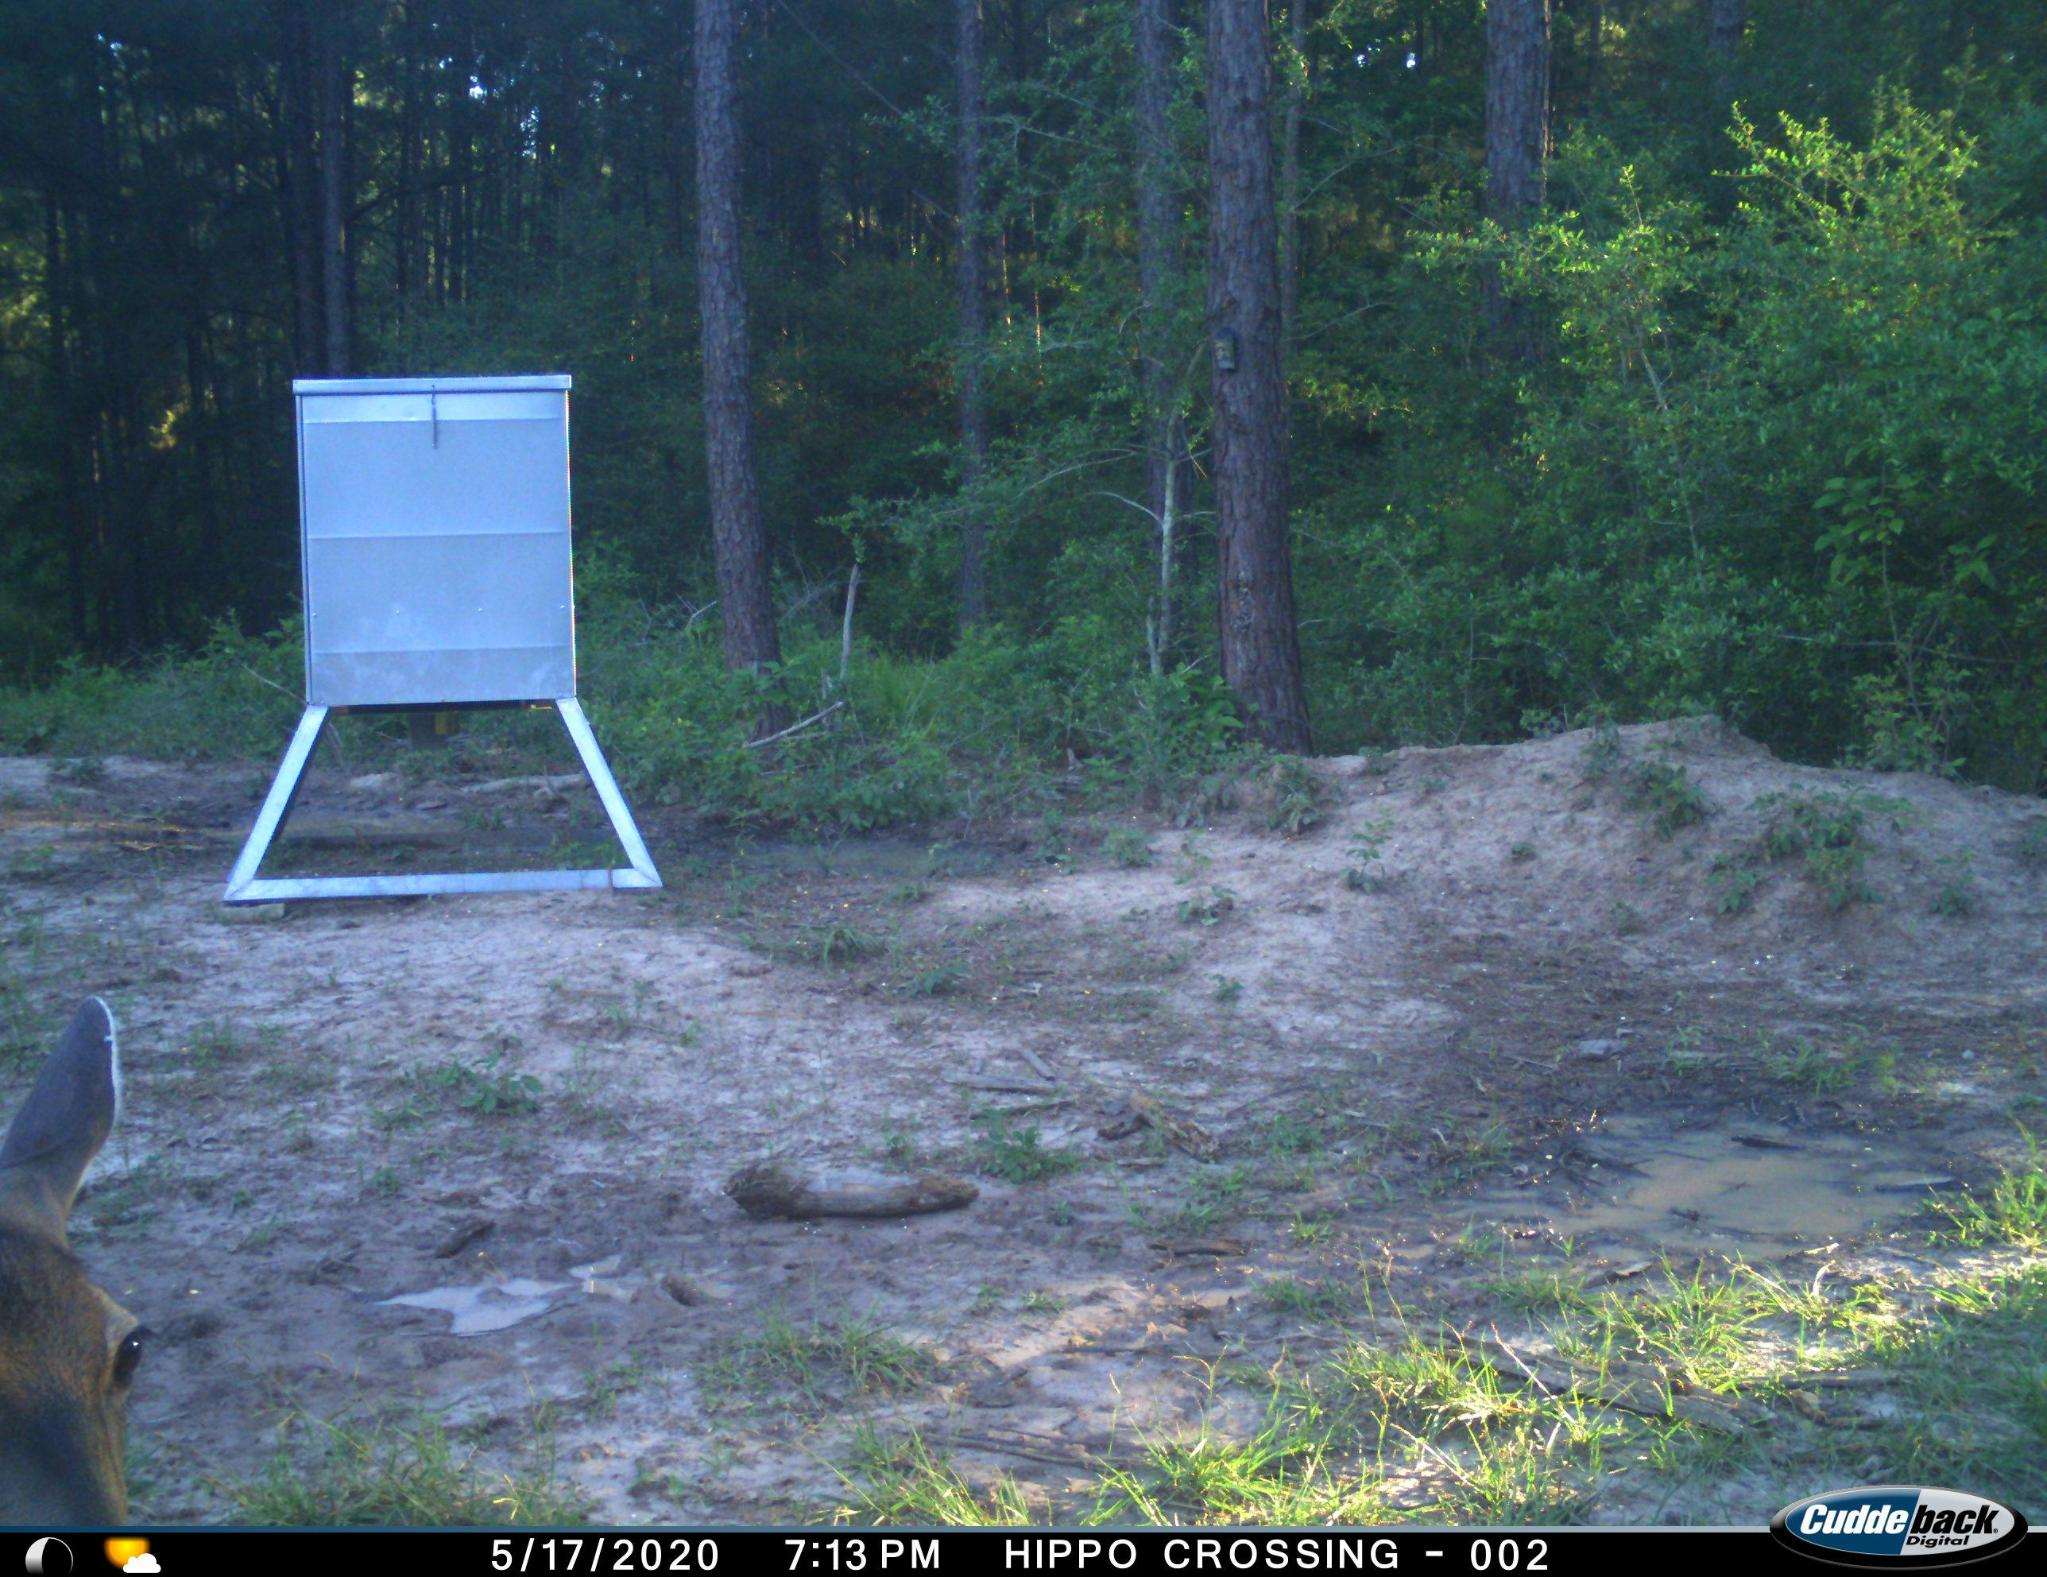Deer: (0, 981, 166, 1527)
